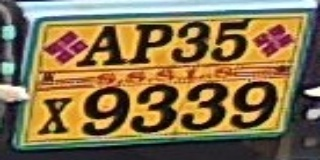3: (134, 82, 181, 134), (184, 80, 229, 133), (172, 20, 213, 66)
5: (213, 18, 254, 66)
9: (229, 79, 281, 132), (81, 85, 133, 137)
A: (83, 23, 128, 68)
P: (133, 22, 173, 64)
X: (38, 93, 73, 138)
